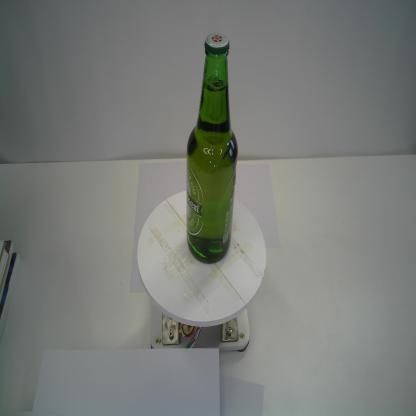Alcohol: (183, 31, 240, 267)
